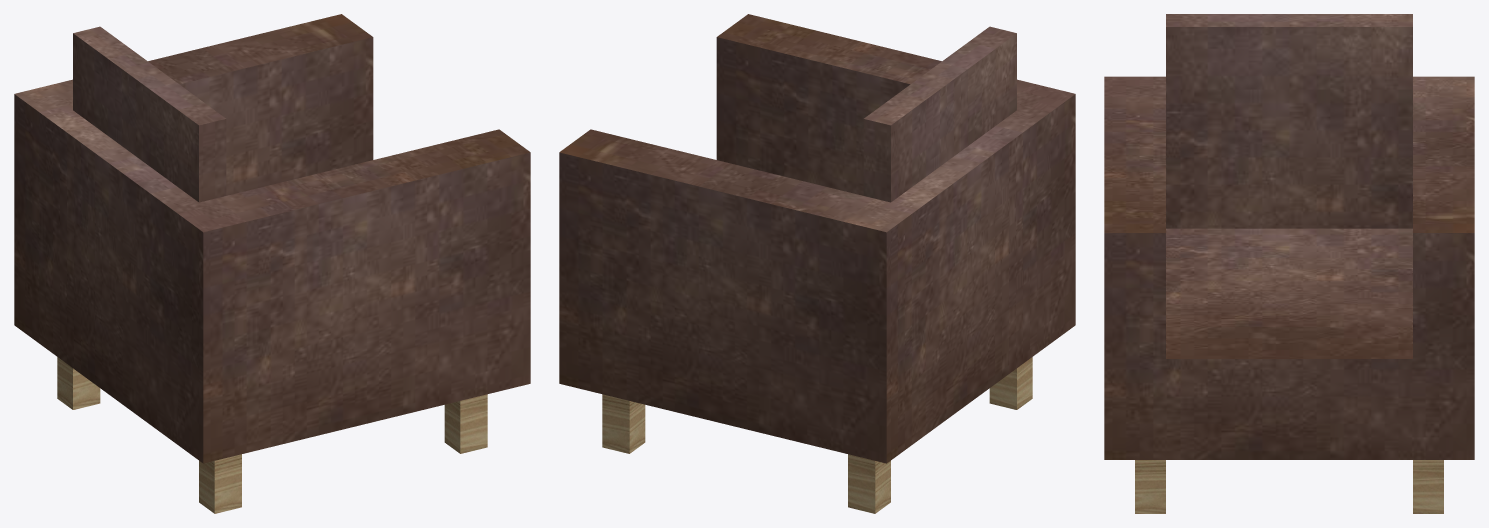
The model's file is ArmChair001.FBX.
The picture shows the model from 3 angles, left to right: view 1: azimuth 30°, elevation 25°; view 2: azimuth 150°, elevation 25°; view 3: azimuth 270°, elevation 25°; orthographic projection. The views are drawn at different scales.
Visible parts, largest first — view 1: ArmChair001; view 2: ArmChair001; view 3: ArmChair001.
Part boxes in pixels (left/top/right/bottom): ArmChair001: left=14, top=14, right=530, bottom=513; ArmChair001: left=559, top=14, right=1075, bottom=513; ArmChair001: left=1104, top=14, right=1474, bottom=513.
Bounding box in the file's own units: 100 × 110 × 100.
